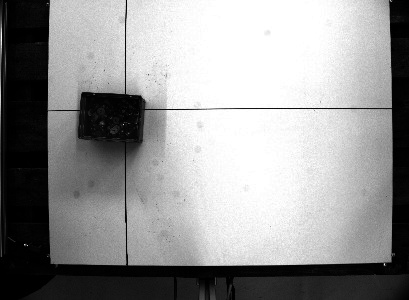klts: (75, 89, 149, 148)
